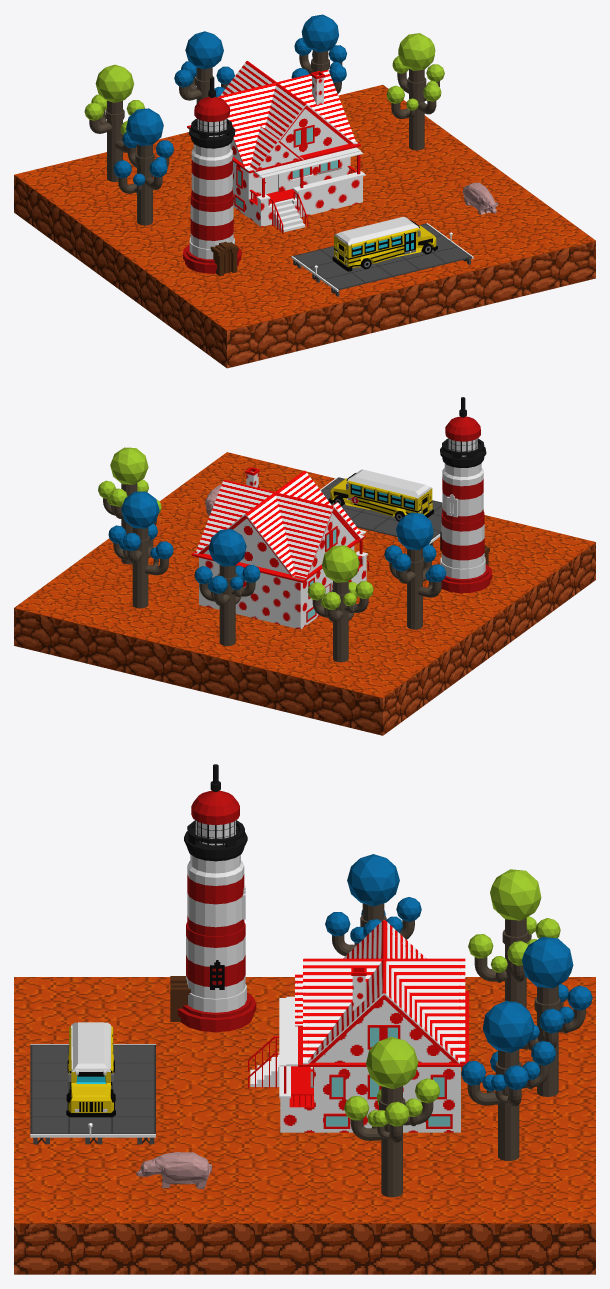
3 renders of one model, top to bottom at view 1: azimuth 30°, elevation 25°; view 2: azimuth 150°, elevation 25°; view 3: azimuth 270°, elevation 25°, orthographic. The views are drawn at different scales.
Visible parts, largest first — view 1: Cube.001, Cube.196, OBJRANDOM_LIGHTHOUSE, VEHICLES_SCHOOL_BUS, ANIMAL_HIPOPOTAMO; view 2: Cube.001, Cube.196, OBJRANDOM_LIGHTHOUSE, VEHICLES_SCHOOL_BUS; view 3: Cube.001, Cube.196, OBJRANDOM_LIGHTHOUSE, VEHICLES_SCHOOL_BUS, ANIMAL_HIPOPOTAMO.
Boxes of the visible parts, <box> form: Cube.001: <box>14,14,595,368</box>; Cube.196: <box>187,61,365,233</box>; OBJRANDOM_LIGHTHOUSE: <box>183,77,241,276</box>; VEHICLES_SCHOOL_BUS: <box>332,217,437,271</box>; ANIMAL_HIPOPOTAMO: <box>463,182,497,214</box>; Cube.001: <box>14,447,595,735</box>; Cube.196: <box>191,467,368,629</box>; OBJRANDOM_LIGHTHOUSE: <box>440,397,492,593</box>; VEHICLES_SCHOOL_BUS: <box>328,469,433,521</box>; Cube.001: <box>14,854,595,1274</box>; Cube.196: <box>248,920,468,1132</box>; OBJRANDOM_LIGHTHOUSE: <box>170,764,256,1032</box>; VEHICLES_SCHOOL_BUS: <box>66,1022,115,1117</box>; ANIMAL_HIPOPOTAMO: <box>136,1152,211,1189</box>.
Size of the model in its own units: 4000 by 2325 by 4000.
Materials: 36 (6 with a texture image).
